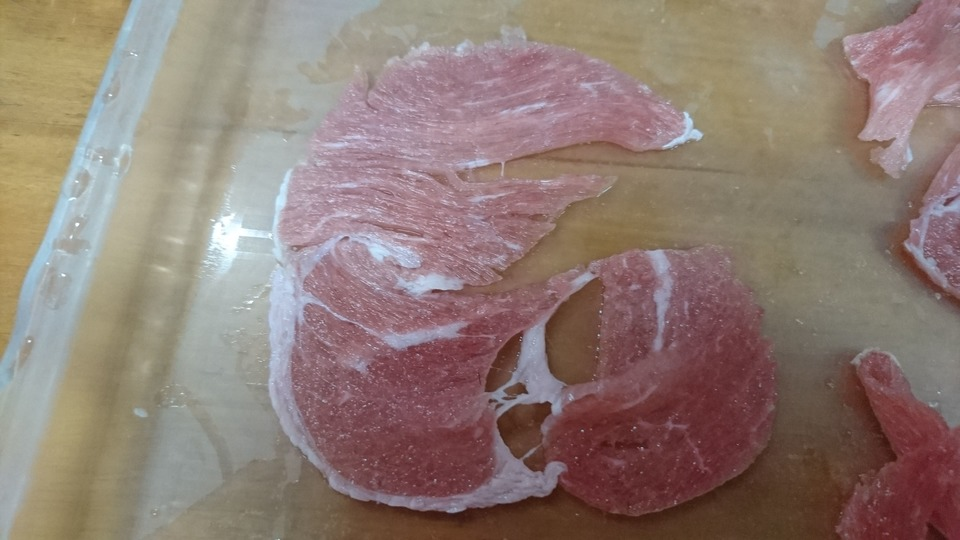restructured meat: (266, 41, 781, 497), (834, 16, 960, 293), (818, 351, 958, 537)
